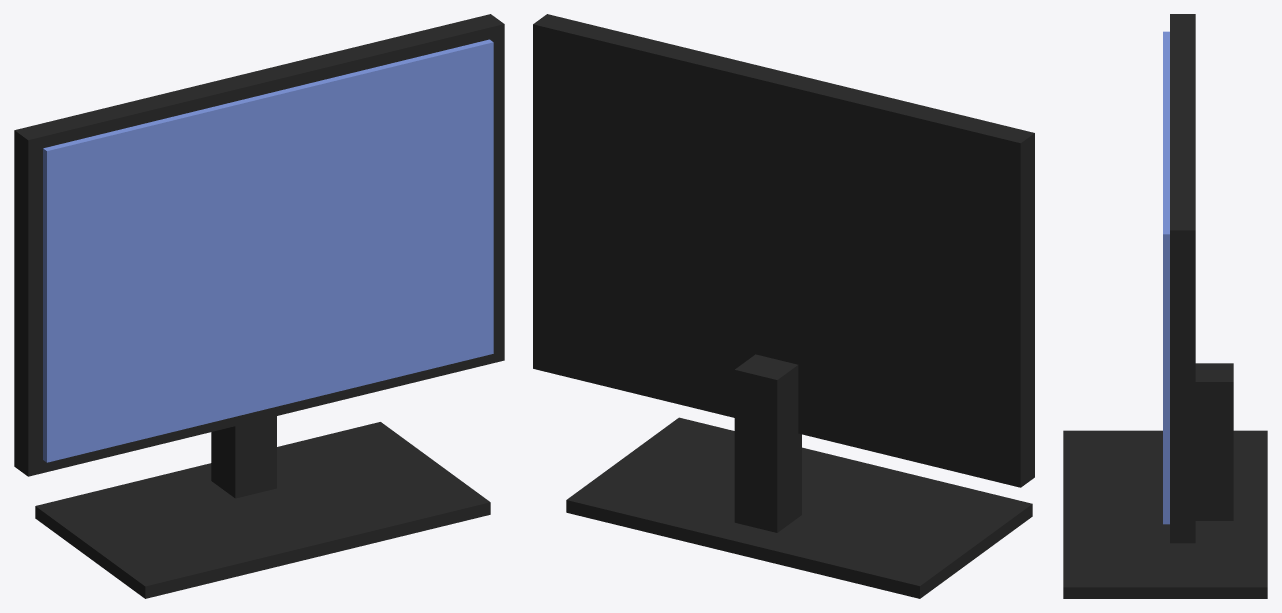
Rendered from Monitor (medium item).fbx.
The picture shows the model from 3 angles, left to right: view 1: azimuth 30°, elevation 25°; view 2: azimuth 150°, elevation 25°; view 3: azimuth 270°, elevation 25°; orthographic projection. The views are drawn at different scales.
Visible parts, largest first — view 1: Box001; view 2: Box001; view 3: Box001.
Boxes of the visible parts, box(x1,y1,x2,y2) form: Box001: box(14, 14, 504, 598); Box001: box(533, 14, 1034, 598); Box001: box(1063, 14, 1267, 598).
Bounding box in the file's own units: 80 × 69.21 × 32.
